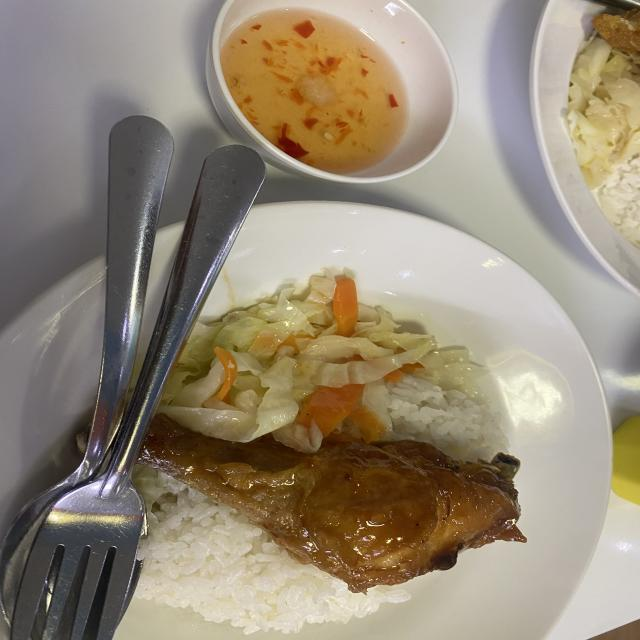bap cai xao: (158, 269, 477, 453)
com: (136, 469, 410, 635), (388, 378, 507, 459)
ga chien: (140, 415, 526, 592)
nuoc mam: (221, 13, 407, 173)
